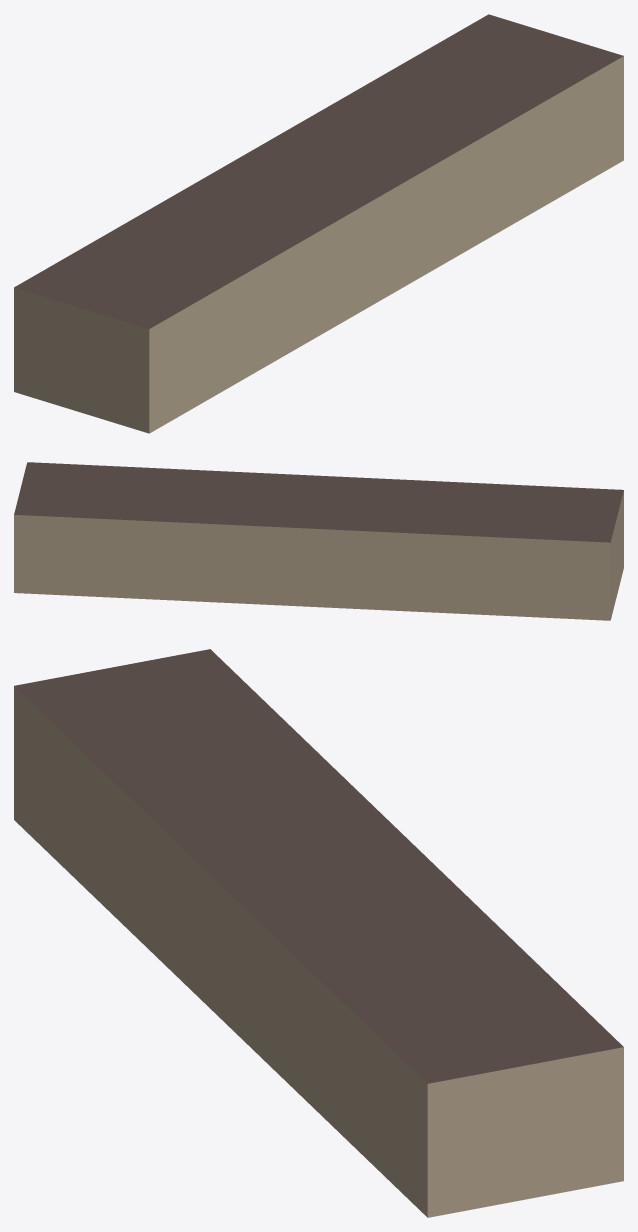
The picture shows the model from 3 angles, top to bottom: view 1: azimuth 30°, elevation 25°; view 2: azimuth 150°, elevation 25°; view 3: azimuth 270°, elevation 25°; orthographic projection. The views are drawn at different scales.
Parts seen in each view (by area): view 1: HP-w859086211; view 2: HP-w859086211; view 3: HP-w859086211.
Part boxes in pixels (x1,y1,x2,y2): HP-w859086211: (14,14,623,433); HP-w859086211: (14,462,623,620); HP-w859086211: (14,649,623,1217).
Bounding box in the file's own units: 62.61 × 9 × 37.12.
